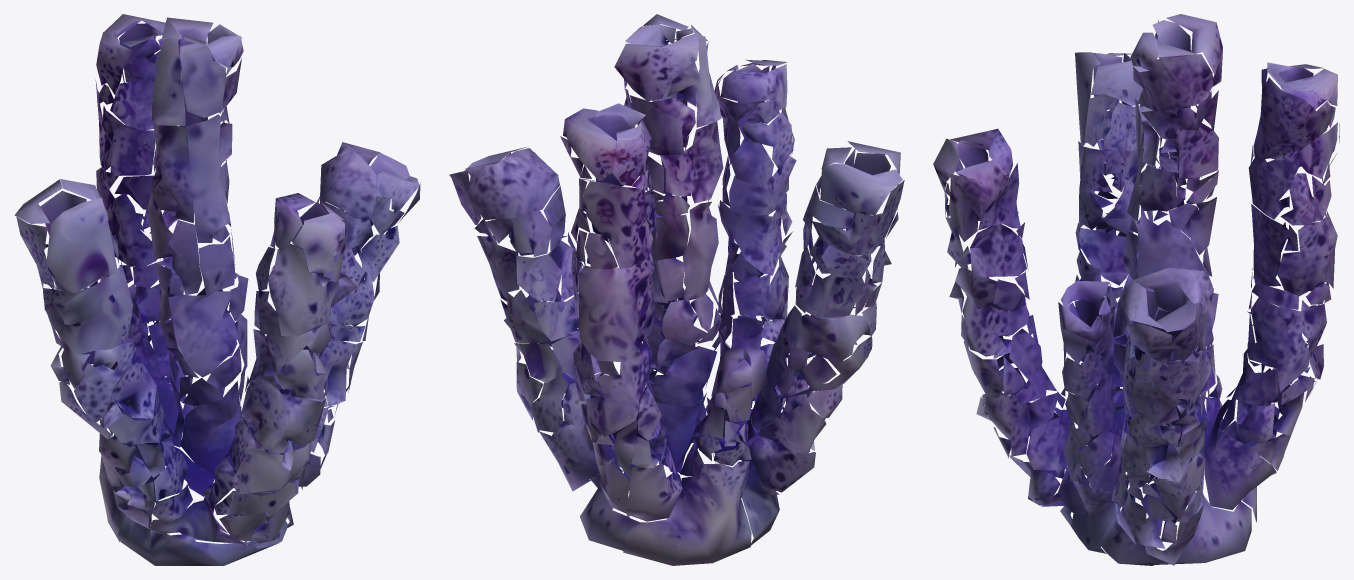
File: sponge_tube_cluster.glb
The picture shows the model from 3 angles, left to right: view 1: azimuth 30°, elevation 25°; view 2: azimuth 150°, elevation 25°; view 3: azimuth 270°, elevation 25°; orthographic projection. The views are drawn at different scales.
Parts seen in each view (by area): view 1: tripo_node_05e22d20-f58e-4378-80dd-07042b1626fa; view 2: tripo_node_05e22d20-f58e-4378-80dd-07042b1626fa; view 3: tripo_node_05e22d20-f58e-4378-80dd-07042b1626fa.
Part boxes in pixels (x1=…): tripo_node_05e22d20-f58e-4378-80dd-07042b1626fa: x1=14, y1=14, x2=420, y2=565; tripo_node_05e22d20-f58e-4378-80dd-07042b1626fa: x1=449, y1=14, x2=904, y2=565; tripo_node_05e22d20-f58e-4378-80dd-07042b1626fa: x1=933, y1=14, x2=1339, y2=565.
Bounding box in the file's own units: 0.8681 × 0.9995 × 0.7213.
Materials: 1 (1 with a texture image).
